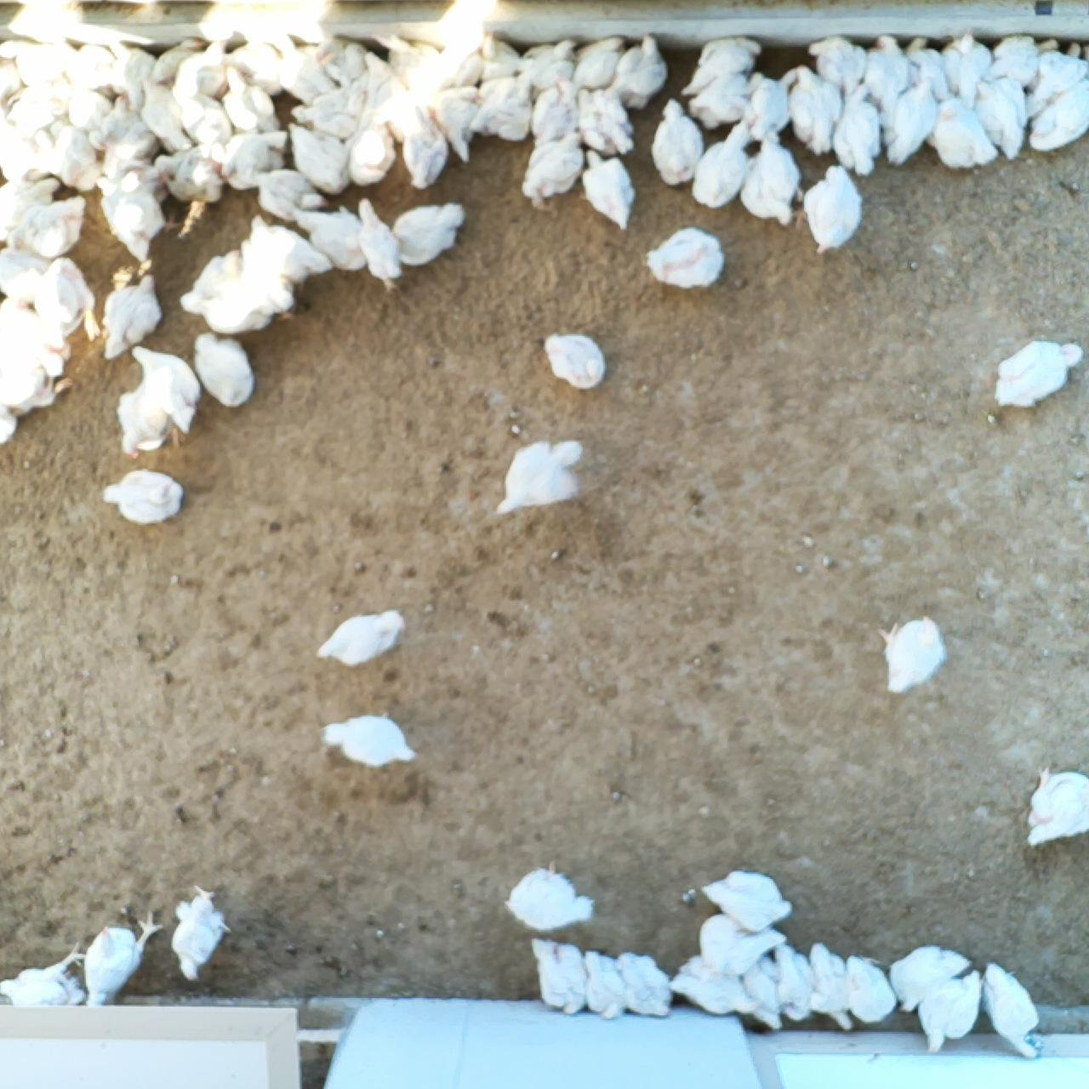chicken: (82, 907, 166, 1013), (177, 246, 277, 334), (21, 252, 101, 354), (493, 435, 589, 517), (127, 345, 203, 448), (102, 169, 183, 263), (737, 124, 809, 229), (0, 938, 92, 1020), (240, 210, 333, 291), (668, 948, 767, 1017), (991, 336, 1083, 410), (977, 958, 1044, 1059), (516, 128, 591, 215), (385, 89, 450, 189), (169, 880, 231, 983), (700, 868, 796, 934), (694, 906, 789, 972), (315, 606, 411, 671), (98, 271, 164, 365), (504, 859, 595, 927), (918, 966, 985, 1058), (798, 163, 865, 254), (828, 81, 889, 180), (1016, 43, 1089, 125), (683, 31, 771, 99), (691, 121, 756, 211), (319, 708, 418, 767), (649, 96, 711, 189), (289, 202, 371, 272), (1, 195, 89, 260), (731, 63, 805, 140), (189, 329, 259, 410), (899, 939, 972, 1015), (391, 198, 468, 270), (928, 93, 999, 171), (879, 616, 948, 696), (678, 68, 767, 130), (228, 240, 296, 320), (784, 63, 843, 155), (1023, 763, 1089, 845), (600, 31, 666, 112), (1025, 71, 1089, 154), (641, 225, 724, 289), (882, 74, 939, 167), (355, 194, 408, 294), (286, 119, 355, 195), (34, 116, 100, 195), (100, 467, 185, 528), (465, 70, 537, 142), (113, 391, 190, 458), (805, 939, 859, 1034), (290, 83, 376, 142), (526, 935, 589, 1015), (376, 29, 446, 100), (581, 146, 638, 233), (0, 353, 76, 418), (860, 33, 916, 121), (0, 294, 69, 365), (134, 76, 196, 154), (974, 73, 1028, 162), (168, 78, 234, 150), (152, 139, 225, 204), (427, 83, 485, 164), (0, 172, 66, 242), (219, 67, 285, 137), (578, 944, 638, 1021), (612, 947, 677, 1018), (737, 946, 791, 1031), (765, 937, 818, 1023), (985, 30, 1062, 89), (220, 130, 293, 192), (0, 39, 87, 91), (838, 950, 899, 1024), (529, 74, 589, 149), (246, 166, 327, 221), (279, 43, 342, 113), (104, 37, 162, 113), (937, 30, 995, 105), (576, 84, 635, 157), (897, 38, 955, 112), (171, 35, 235, 101), (542, 329, 608, 393), (427, 27, 490, 94), (806, 33, 869, 100), (512, 38, 578, 100), (340, 117, 398, 187), (0, 239, 61, 304), (562, 33, 628, 93), (222, 38, 289, 96), (91, 93, 149, 159), (93, 125, 161, 181), (4, 79, 72, 133), (58, 80, 119, 140), (346, 50, 404, 112), (317, 35, 378, 93), (55, 43, 124, 92), (148, 36, 210, 86), (465, 33, 522, 83), (0, 116, 38, 182), (0, 62, 36, 117), (0, 398, 23, 448)
